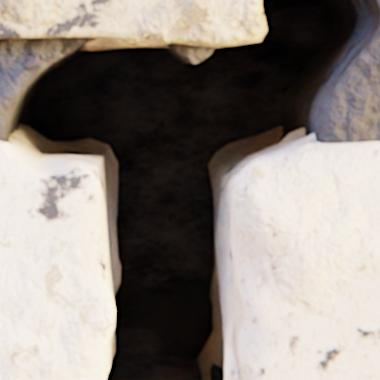brick: (0, 0, 264, 47)
broken_brick: (230, 139, 379, 379), (0, 141, 114, 379)
crack: (1, 0, 378, 379)
